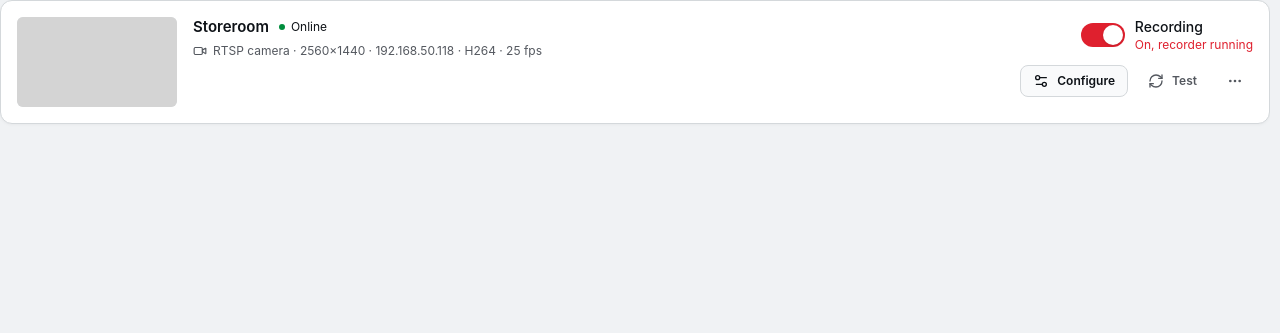
brand-specific actions › shows Tapo controls once an administrator has opted in
Click the button named "More actions for Storeroom".
click(1235, 81)  # box [1217,63,1253,99]
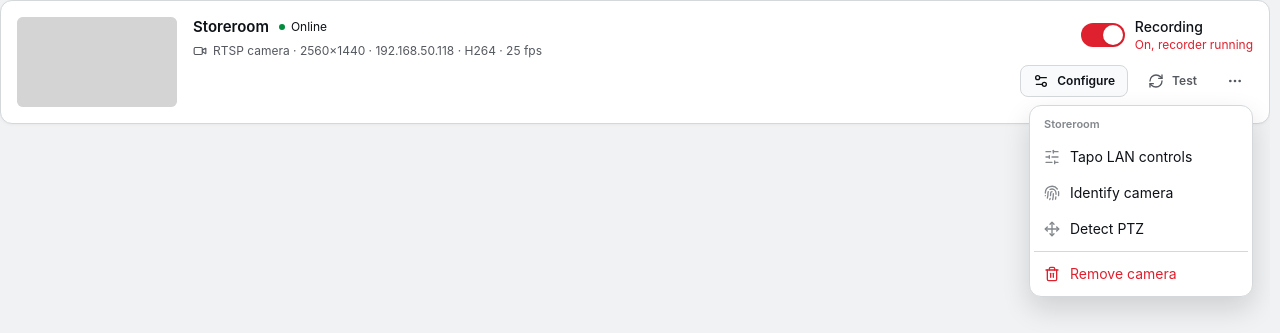
expect the menu item "Tapo LAN controls" is shown: met, box [1044,148,1192,164]
